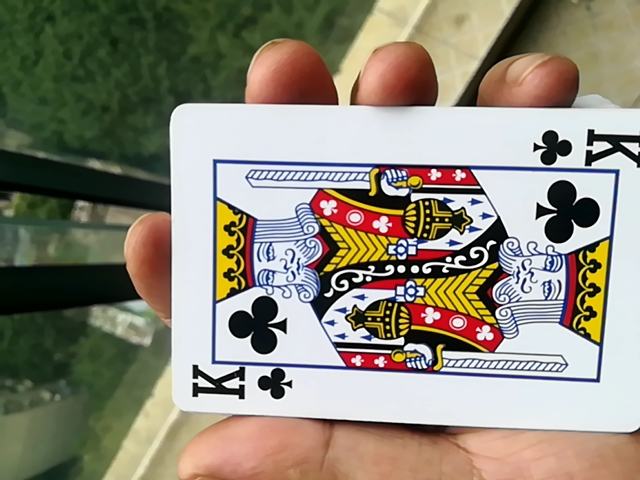mh k: (158, 106, 635, 446)
